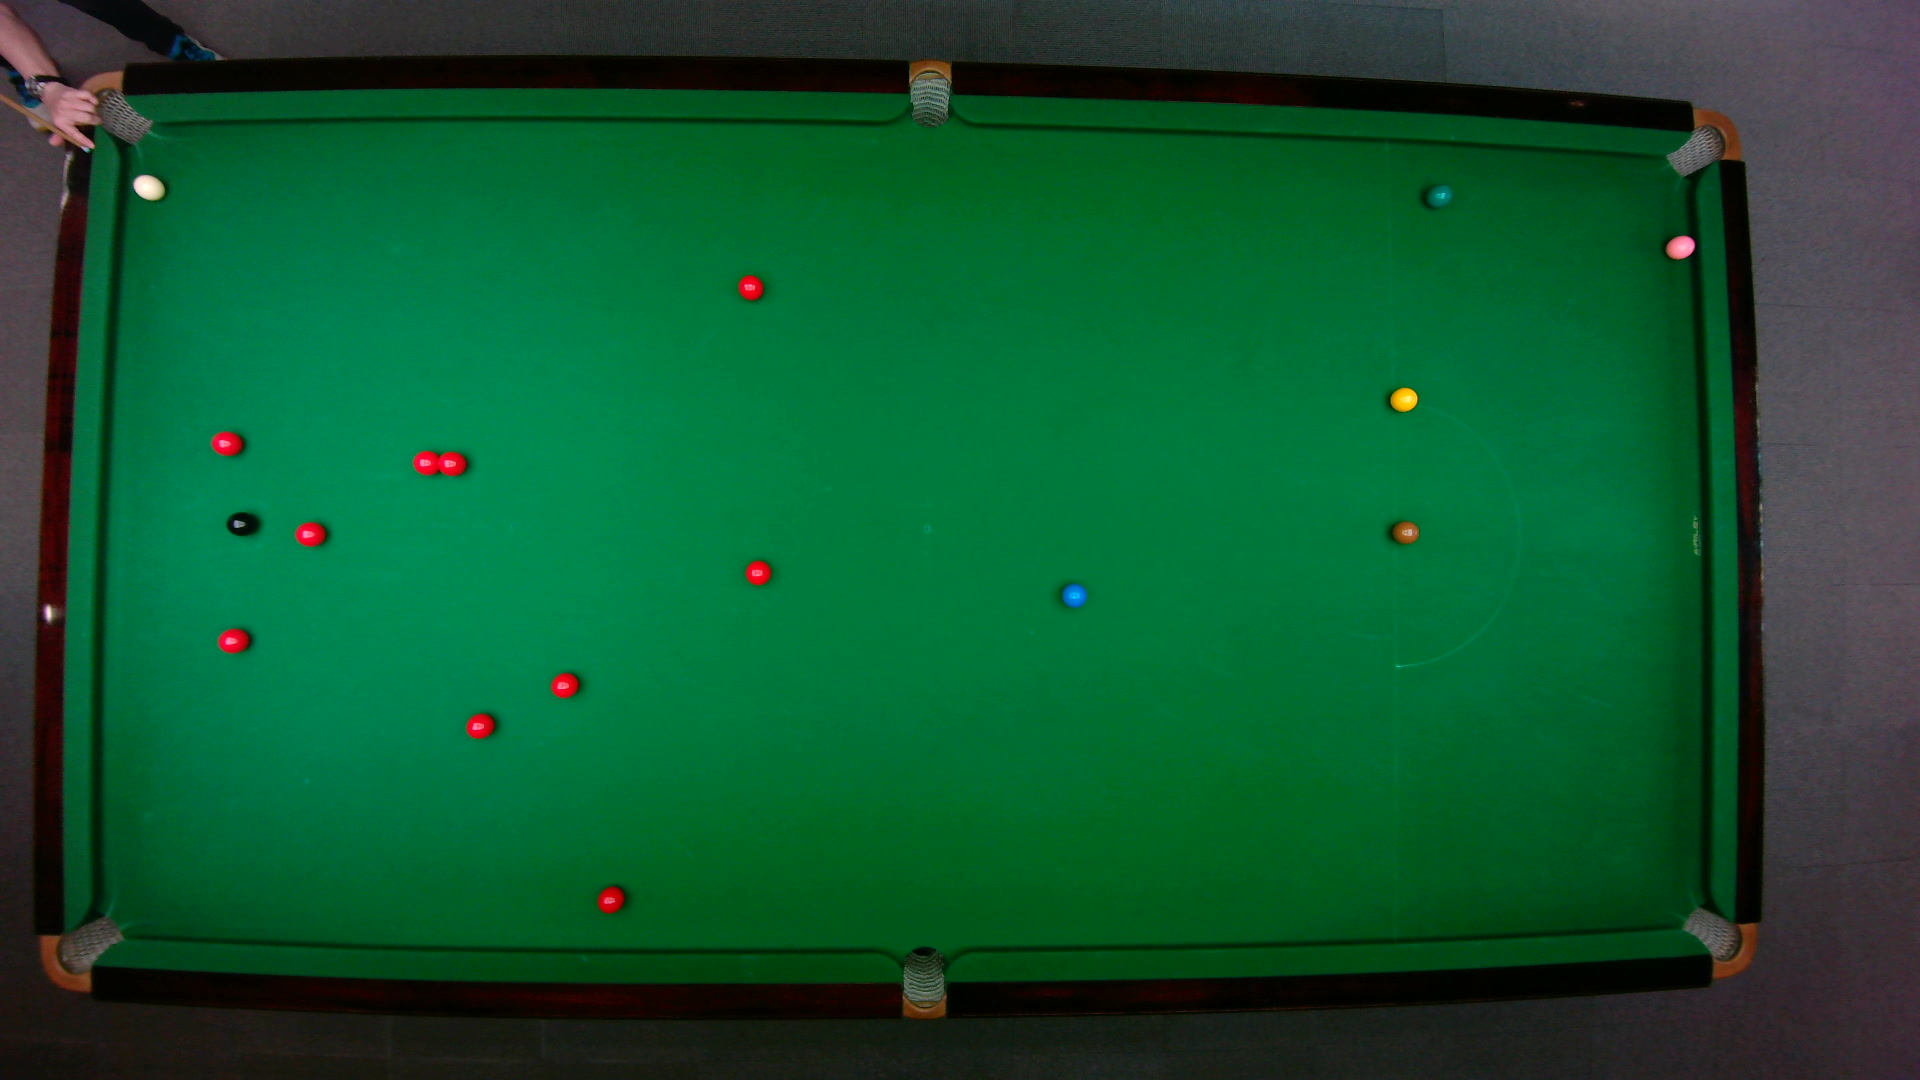bag: (38, 914, 125, 993), (69, 69, 152, 145), (1677, 905, 1756, 978), (1663, 107, 1741, 178), (901, 944, 944, 1021), (909, 57, 949, 128)
black: (223, 509, 257, 535)
blue: (1059, 582, 1087, 608)
brown: (1390, 520, 1419, 545)
cue: (0, 88, 92, 156)
green: (1422, 182, 1453, 208)
pink: (1663, 232, 1697, 260)
red: (208, 429, 244, 456), (214, 626, 251, 653), (410, 448, 443, 476), (293, 520, 326, 547), (595, 884, 625, 913), (436, 448, 468, 476), (463, 711, 495, 738), (549, 671, 580, 698), (742, 558, 771, 585), (736, 273, 764, 301)
white: (131, 171, 166, 200)
yellow: (1389, 385, 1419, 411)
zone: (1390, 400, 1520, 667)
